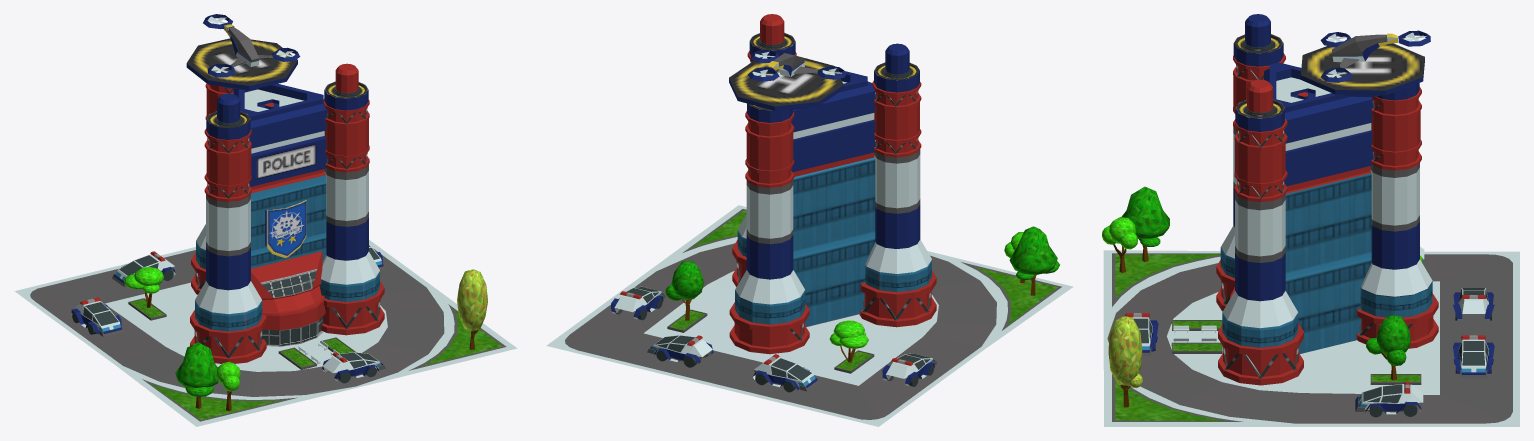
File: policestation_LV2.fbx
3 views of the same model, side by side, from view 1: azimuth 30°, elevation 25°; view 2: azimuth 150°, elevation 25°; view 3: azimuth 270°, elevation 25° (orthographic). The views are drawn at different scales.
Visible parts, largest first — view 1: police 2; view 2: police 2; view 3: police 2.
Part boxes in pixels (box(x1,y1,x2,y2)): police 2: box(14, 14, 517, 426); police 2: box(546, 14, 1073, 426); police 2: box(1102, 14, 1519, 426).
Bounding box in the file's own units: 121 × 96.3 × 120.
